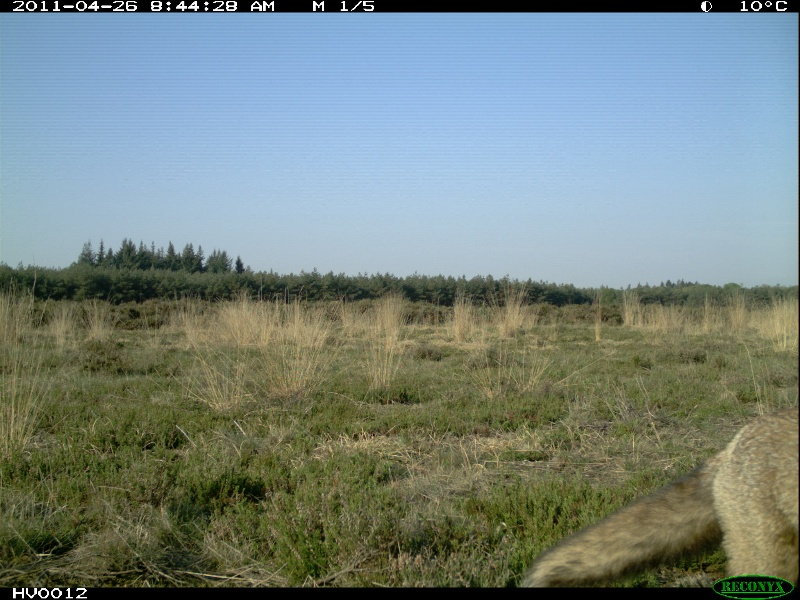fox: (511, 408, 800, 586)
